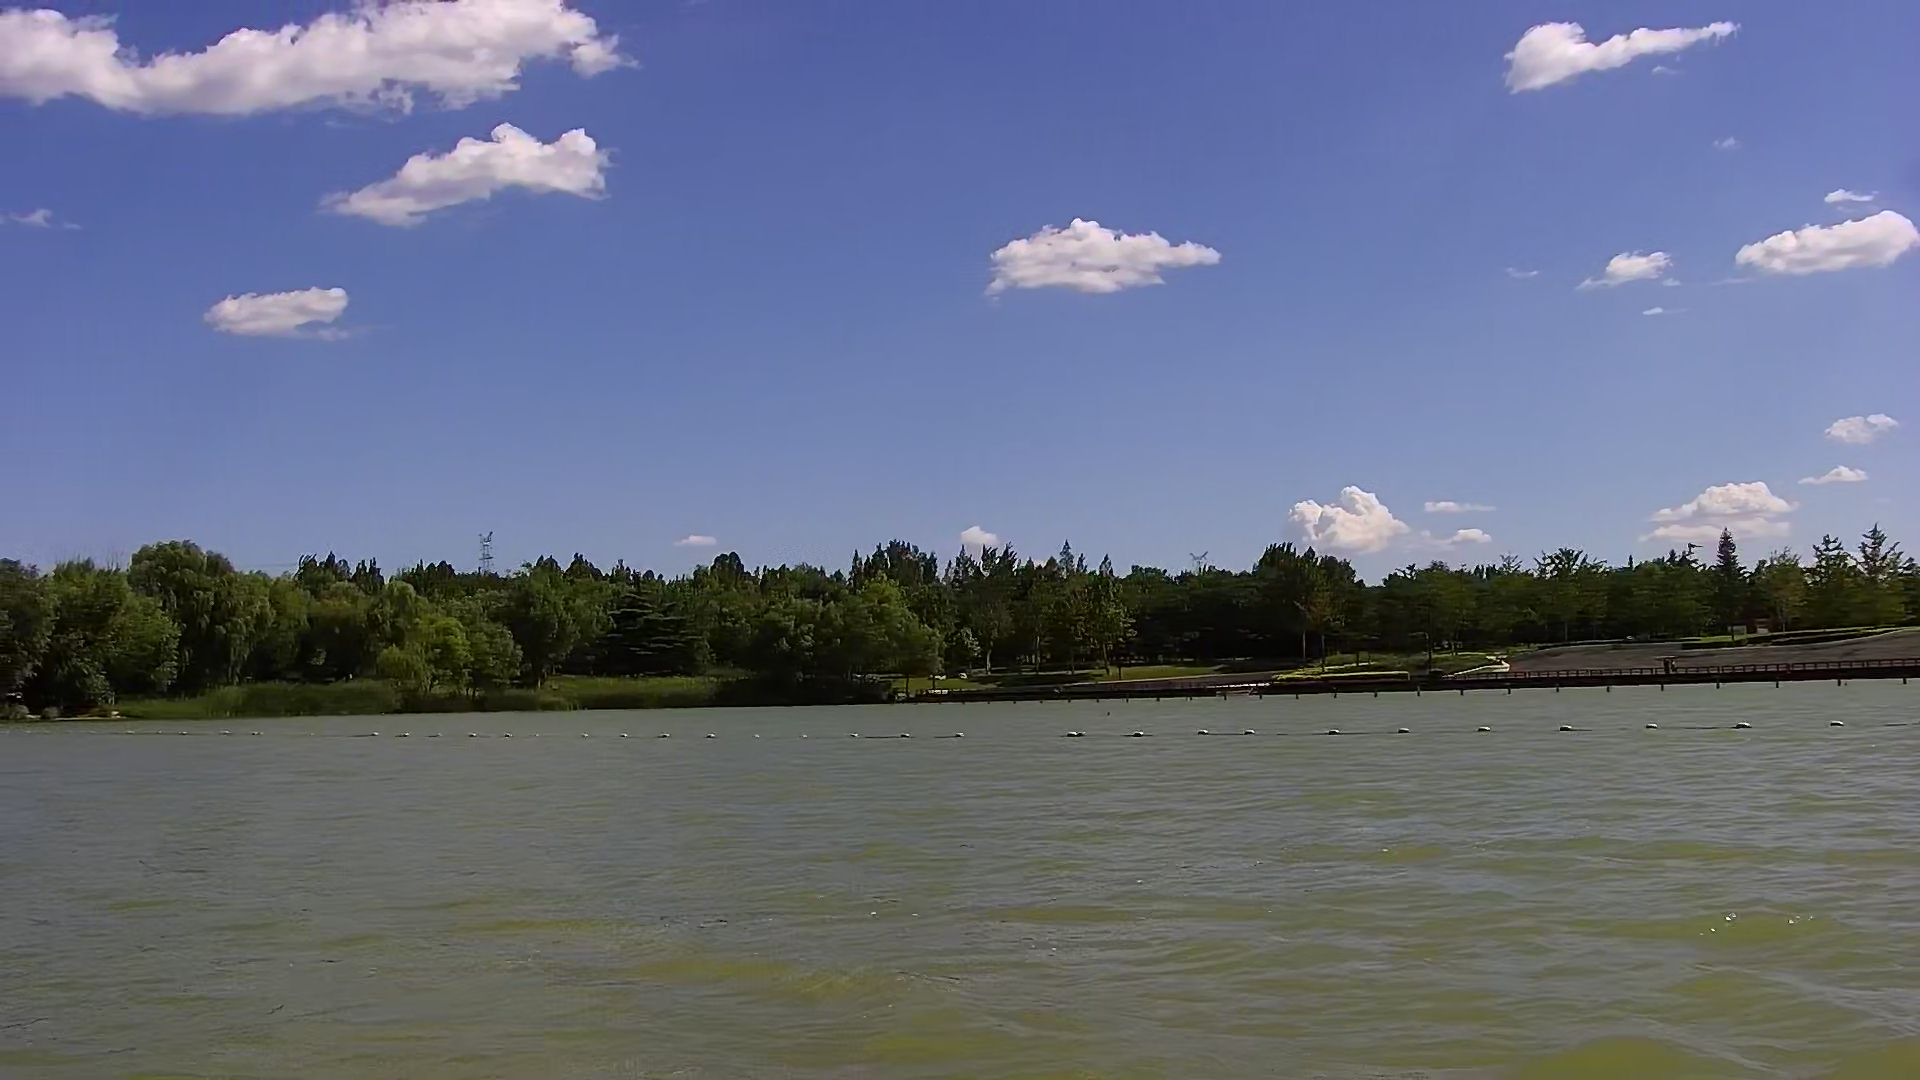ball: (1125, 723, 1153, 742), (1730, 717, 1759, 735), (1553, 716, 1576, 736), (1395, 717, 1415, 738), (1476, 717, 1495, 737), (1644, 715, 1662, 735)
harbor: (1478, 630, 1920, 690)
